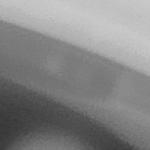colony: (0, 121, 100, 150)
